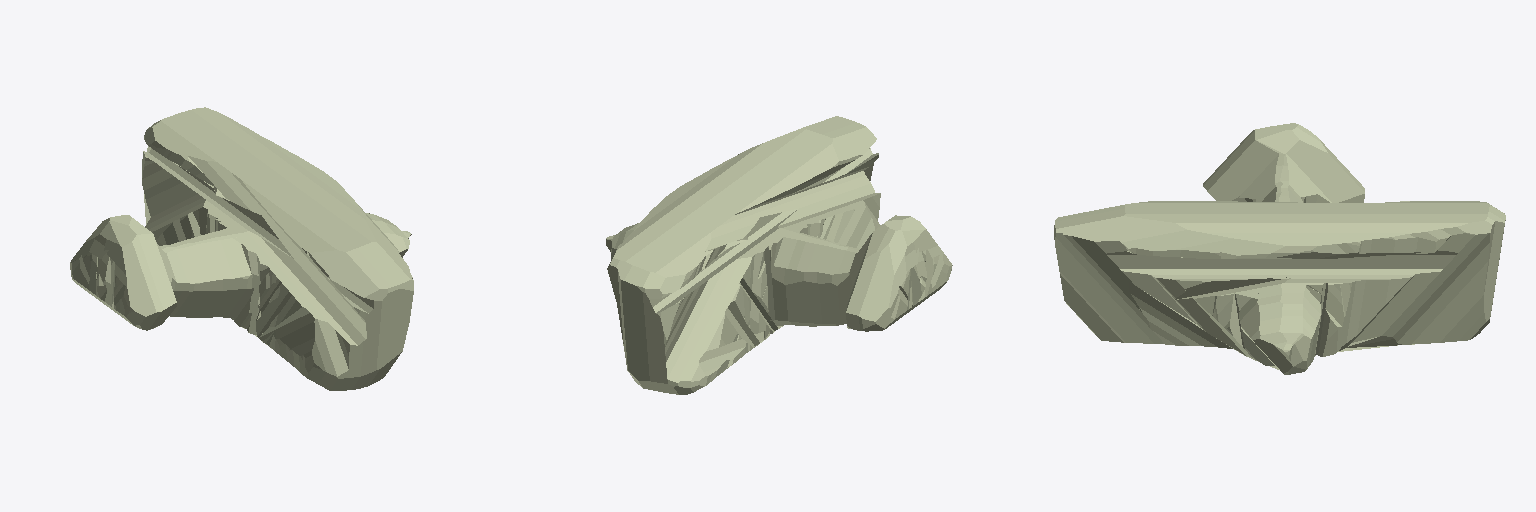
The model's file is biplane.obj.
3 renders of one model, left to right at view 1: azimuth 30°, elevation 25°; view 2: azimuth 150°, elevation 25°; view 3: azimuth 270°, elevation 25°, orthographic.
Visible parts, largest first — view 1: Cube1_s_0.svg_s_8.svg_s_11.svg_s_13.svg_s_28.svg_s_29.svg_s_31.s; view 2: Cube1_s_0.svg_s_8.svg_s_11.svg_s_13.svg_s_28.svg_s_29.svg_s_31.s; view 3: Cube1_s_0.svg_s_8.svg_s_11.svg_s_13.svg_s_28.svg_s_29.svg_s_31.s.
Boxes of the visible parts, <box> form: Cube1_s_0.svg_s_8.svg_s_11.svg_s_13.svg_s_28.svg_s_29.svg_s_31.s: <box>70,107,413,390</box>; Cube1_s_0.svg_s_8.svg_s_11.svg_s_13.svg_s_28.svg_s_29.svg_s_31.s: <box>606,116,952,394</box>; Cube1_s_0.svg_s_8.svg_s_11.svg_s_13.svg_s_28.svg_s_29.svg_s_31.s: <box>1054,123,1505,374</box>.
Bounding box in the file's own units: 1.16 × 0.4657 × 1.44.